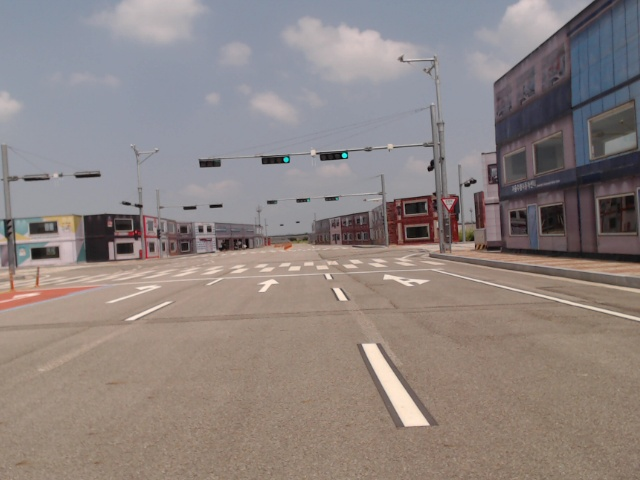straight_green_4: (319, 150, 349, 161), (261, 155, 291, 165), (324, 196, 340, 201), (296, 198, 311, 202)
